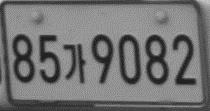0: (117, 34, 141, 84)
2: (171, 33, 196, 85)
5: (38, 34, 60, 83)
8: (144, 34, 169, 84), (11, 33, 35, 82)
9: (90, 33, 114, 84)
가: (62, 42, 86, 83)
